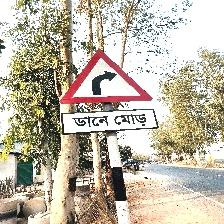Right-turn: (58, 50, 158, 136)
